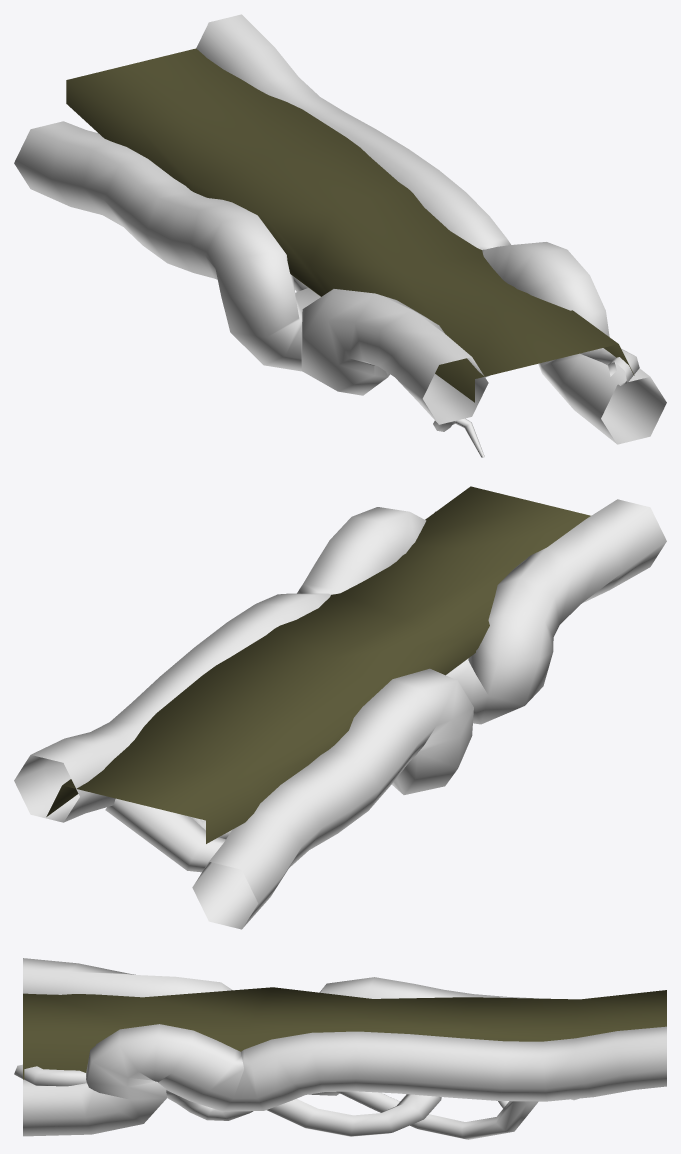
3 views of the same model, one above another, from view 1: azimuth 30°, elevation 25°; view 2: azimuth 150°, elevation 25°; view 3: azimuth 270°, elevation 25° (orthographic). The views are drawn at different scales.
Parts seen in each view (by area): view 1: NurbsPath.006, DummyPlane.004; view 2: NurbsPath.006, DummyPlane.004; view 3: NurbsPath.006, DummyPlane.004.
Part boxes in pixels (<box>): NurbsPath.006: <box>14,14,666,457</box>; DummyPlane.004: <box>66,48,634,402</box>; NurbsPath.006: <box>14,499,666,929</box>; DummyPlane.004: <box>46,486,590,843</box>; NurbsPath.006: <box>14,958,666,1139</box>; DummyPlane.004: <box>23,987,666,1079</box>.
Size of the model in its own units: 104 by 68.98 by 304.
